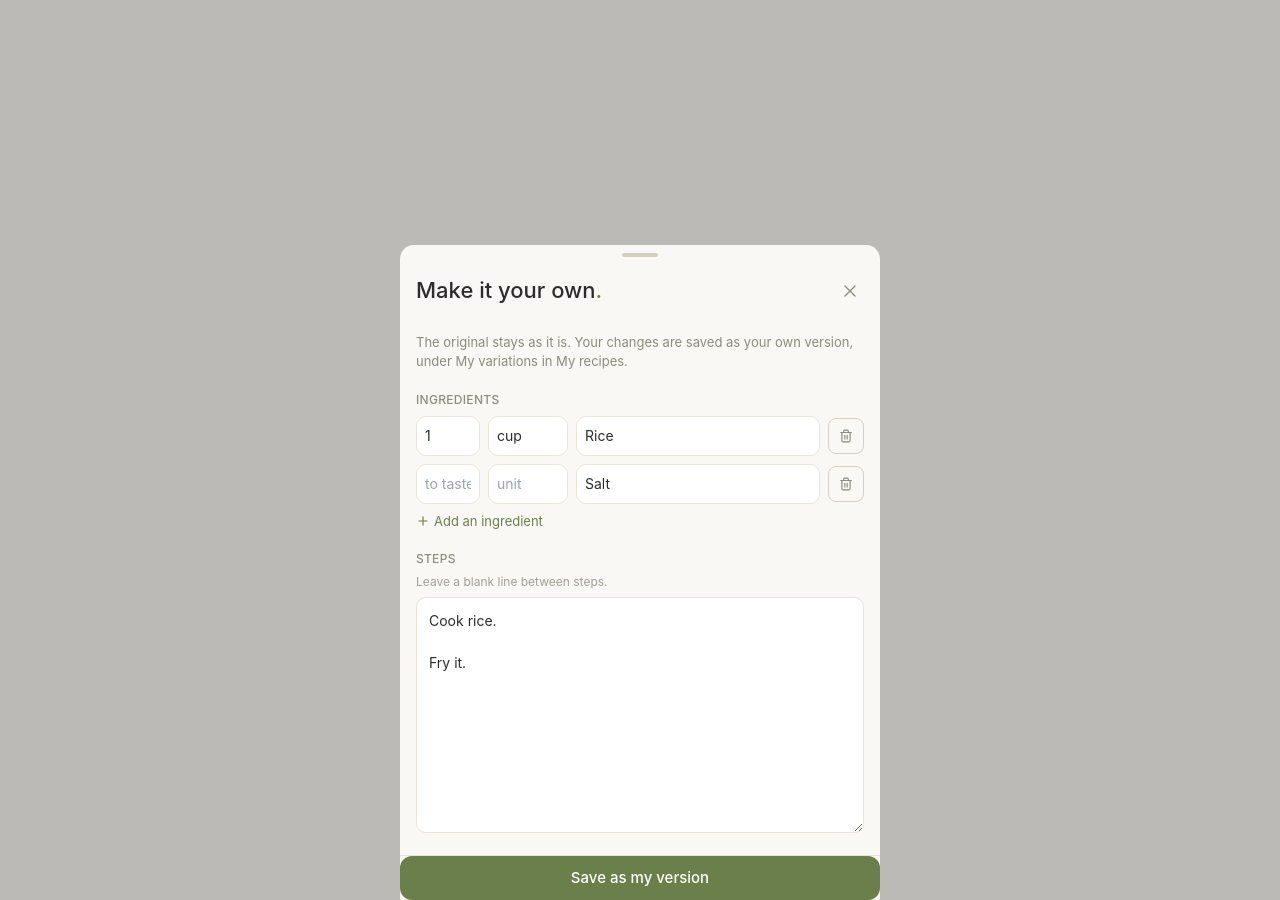
Test: VariationSheet › removes an ingredient, and refuses an amount that is not a number
Click the button named "Remove Salt". click: (846, 484)
box: [828,466,864,502]
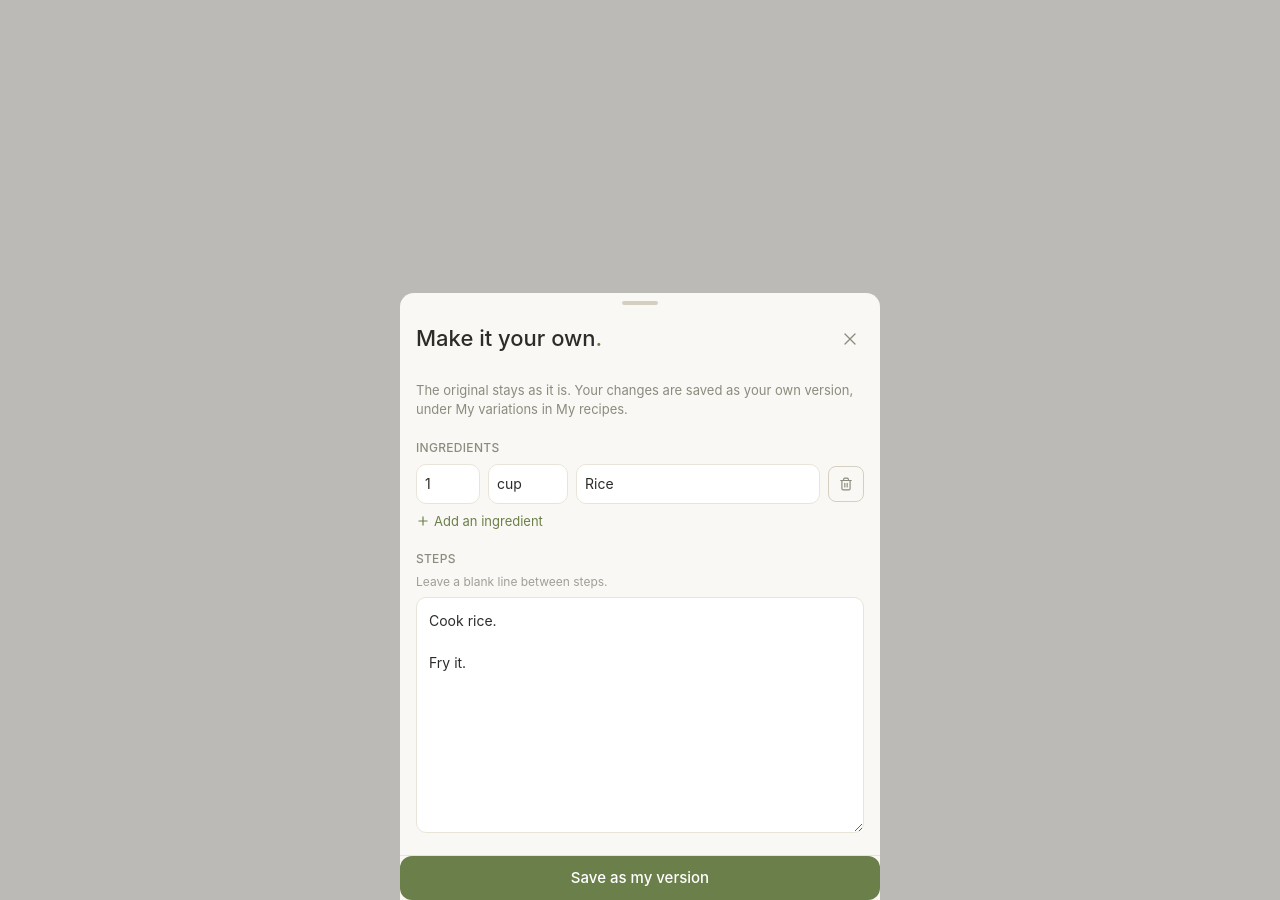
Expected: the field showing "Salt" is not shown
Replace the text in the field named "Amount for ingredient 1" with "a bit". click: (448, 484)
box: [416,464,480,504]
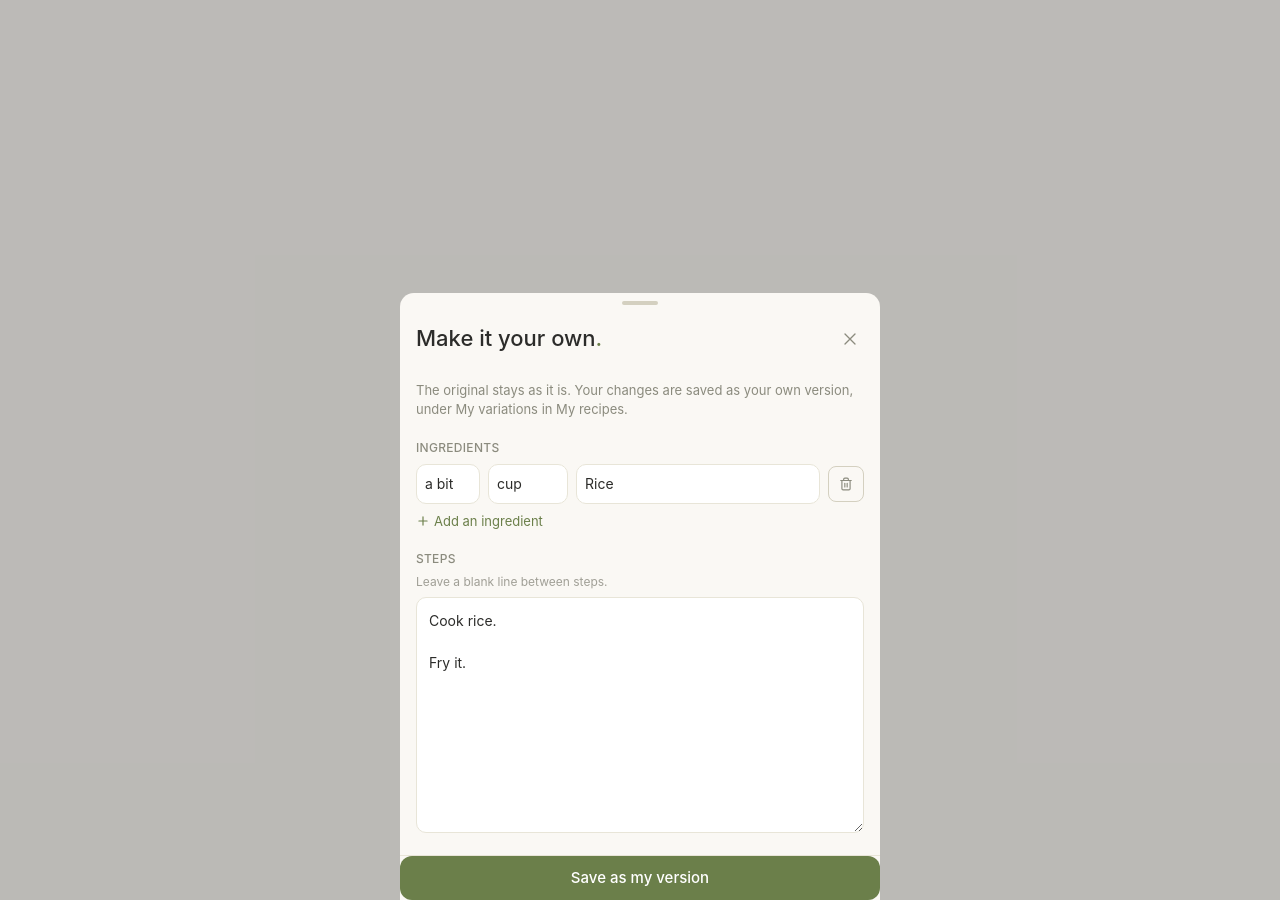
Click the button "Save as my version". click: (640, 878)
box: [400,856,880,899]
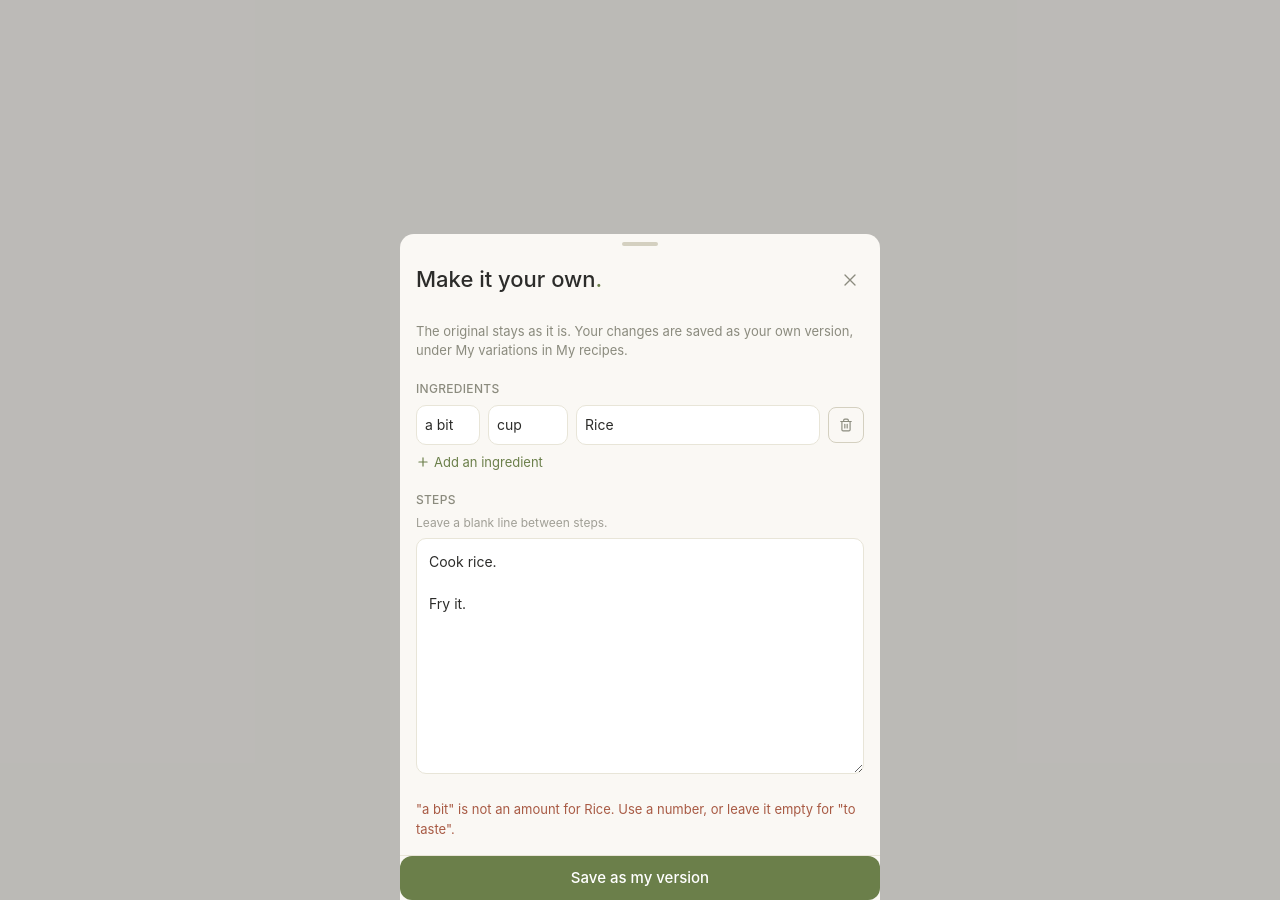
Now the message shows "\"a bit\" is not an amount for Rice.", box [416,801,856,836]
